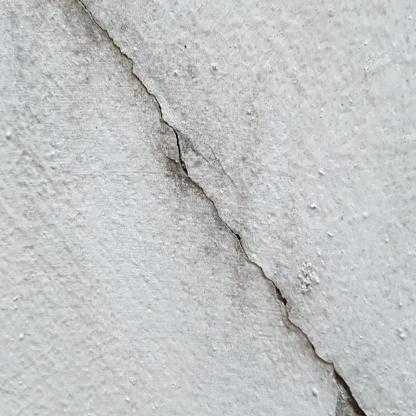crack: (112, 42, 366, 415)
